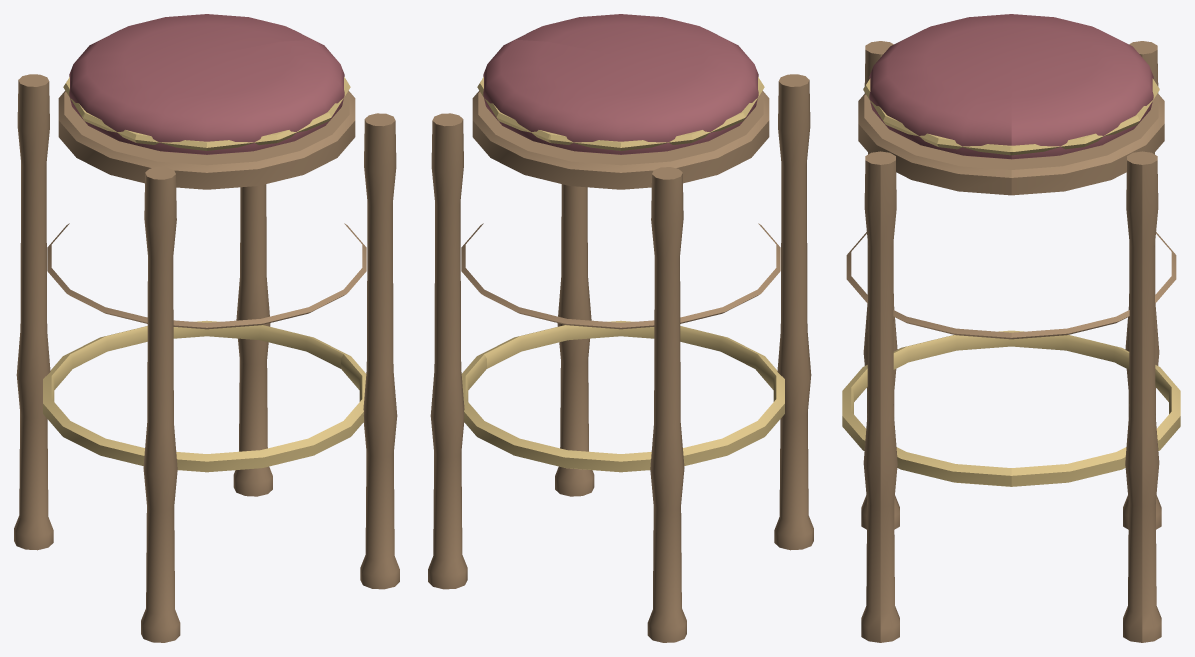
Rendered from stool_bar_backless.glb.
3 renders of one model, left to right at view 1: azimuth 30°, elevation 25°; view 2: azimuth 150°, elevation 25°; view 3: azimuth 270°, elevation 25°, orthographic. The views are drawn at different scales.
Parts seen in each view (by area): view 1: bar-stool-backless; view 2: bar-stool-backless; view 3: bar-stool-backless.
Boxes of the visible parts, left/top/right/bottom form: bar-stool-backless: left=14, top=14, right=399, bottom=642; bar-stool-backless: left=428, top=14, right=813, bottom=642; bar-stool-backless: left=842, top=14, right=1180, bottom=642.
Bounding box in the file's own units: 0.464 × 0.7775 × 0.457.
